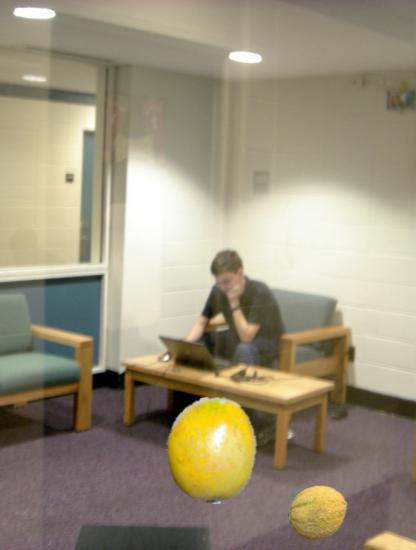Cantaloupe: (289, 483, 349, 543)
Maracuja: (158, 397, 265, 504)
